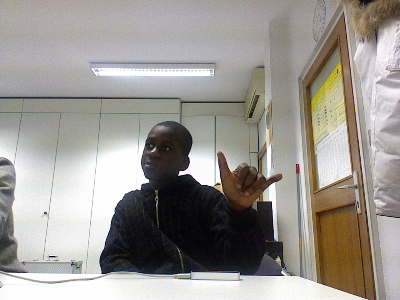六六六: (214, 148, 284, 208)
